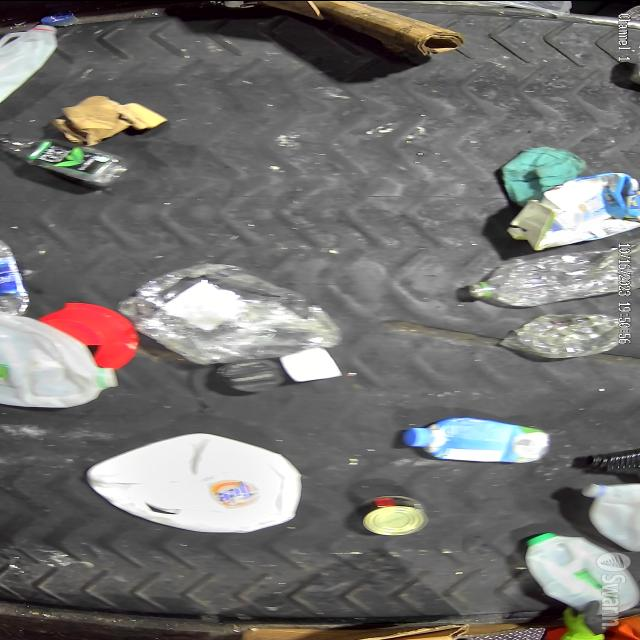can: (346, 492, 428, 540)
milk_jug: (92, 434, 300, 530), (0, 312, 120, 410), (515, 534, 640, 620), (0, 17, 64, 103), (576, 478, 640, 556)
plastic_bottle: (460, 242, 638, 310), (490, 312, 638, 360), (0, 236, 30, 326)
